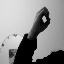o: (33, 6, 52, 33)
